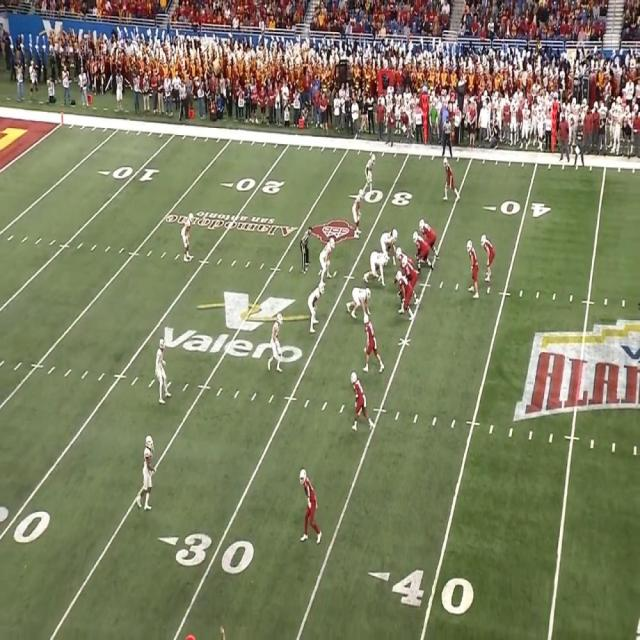center: (392, 247, 414, 283)
db: (155, 337, 172, 402), (140, 436, 154, 510), (268, 313, 282, 369), (180, 212, 194, 264), (366, 157, 375, 189)
lb: (308, 284, 323, 332), (352, 190, 362, 242), (320, 238, 333, 276)
qb: (468, 242, 481, 296)
